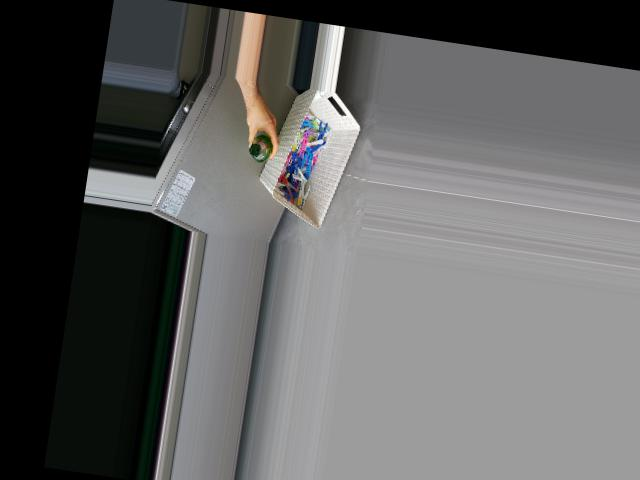beer: (247, 132, 274, 163)
